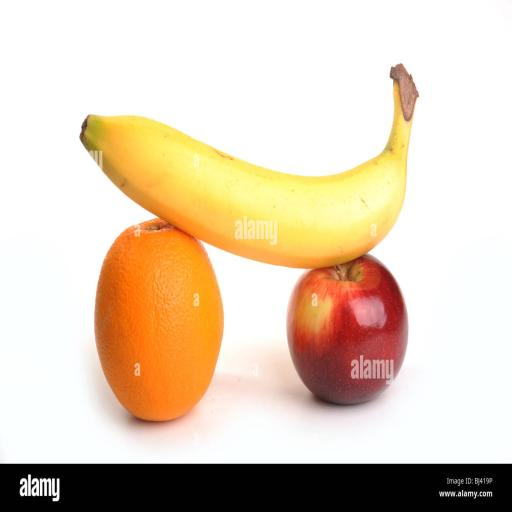apple: (287, 255, 408, 404)
banana: (80, 65, 417, 268)
orange: (95, 219, 223, 420)
